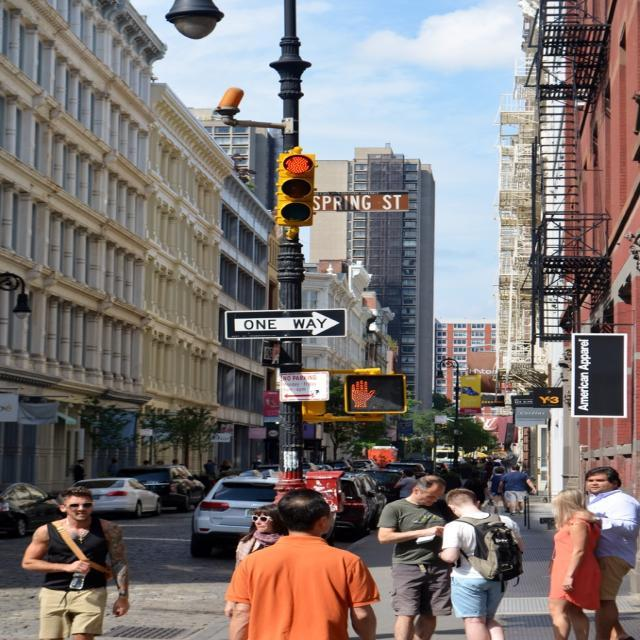traffic light: (274, 144, 318, 230)
